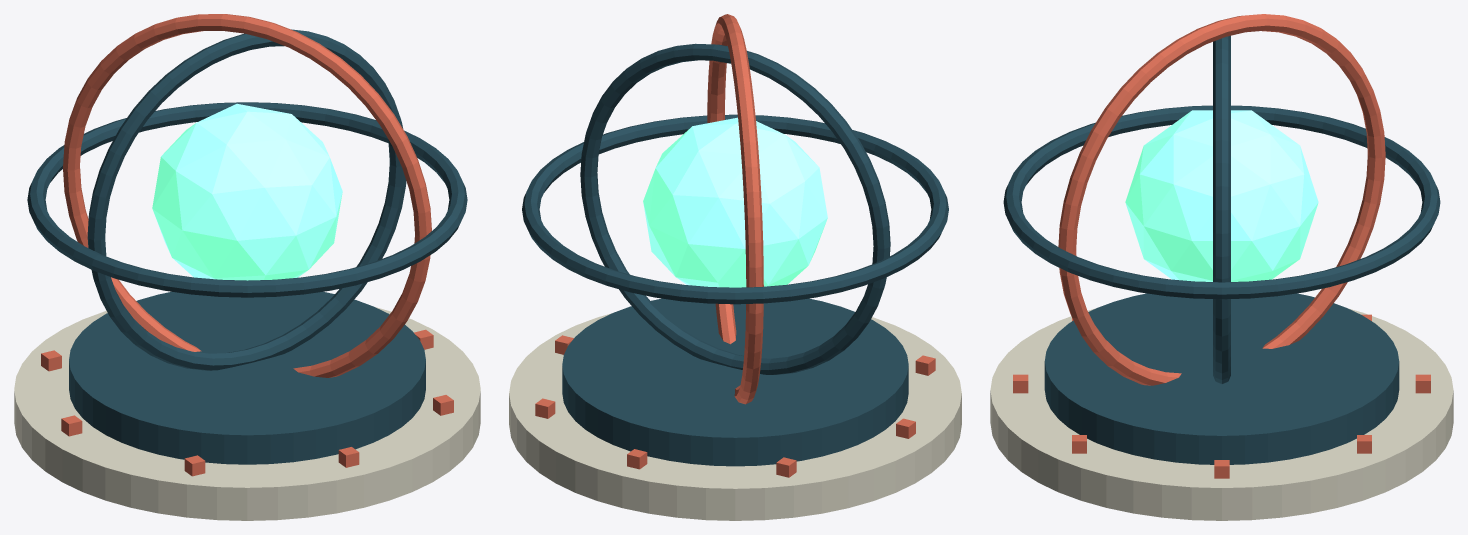
The model's file is sync-device.glb.
3 views of the same model, side by side, from view 1: azimuth 30°, elevation 25°; view 2: azimuth 150°, elevation 25°; view 3: azimuth 270°, elevation 25° (orthographic). The views are drawn at different scales.
Parts seen in each view (by area): view 1: Synchronizer pedestal, Ceramic plate base, Freshness core, Freshness orbit 2, Freshness orbit 3, Freshness orbit 1; view 2: Synchronizer pedestal, Ceramic plate base, Freshness core, Freshness orbit 1, Freshness orbit 3, Freshness orbit 2; view 3: Synchronizer pedestal, Ceramic plate base, Freshness core, Freshness orbit 2, Freshness orbit 3, Freshness orbit 1.
Boxes of the visible parts, <box> form: Synchronizer pedestal: <box>69,291,425,464</box>; Ceramic plate base: <box>14,307,480,520</box>; Freshness core: <box>152,103,342,280</box>; Freshness orbit 2: <box>63,14,431,377</box>; Freshness orbit 3: <box>27,102,467,297</box>; Freshness orbit 1: <box>87,29,406,370</box>; Synchronizer pedestal: <box>562,298,908,466</box>; Ceramic plate base: <box>509,313,961,520</box>; Freshness core: <box>643,117,827,287</box>; Freshness orbit 1: <box>580,43,890,374</box>; Freshness orbit 3: <box>522,114,948,304</box>; Freshness orbit 2: <box>707,14,763,404</box>; Synchronizer pedestal: <box>1044,293,1399,464</box>; Ceramic plate base: <box>990,308,1453,520</box>; Freshness core: <box>1125,110,1318,281</box>; Freshness orbit 2: <box>1058,14,1385,385</box>; Freshness orbit 3: <box>1003,105,1440,299</box>; Freshness orbit 1: <box>1213,35,1230,383</box>.
Size of the model in its own units: 2.3 by 2.21 by 2.3.
